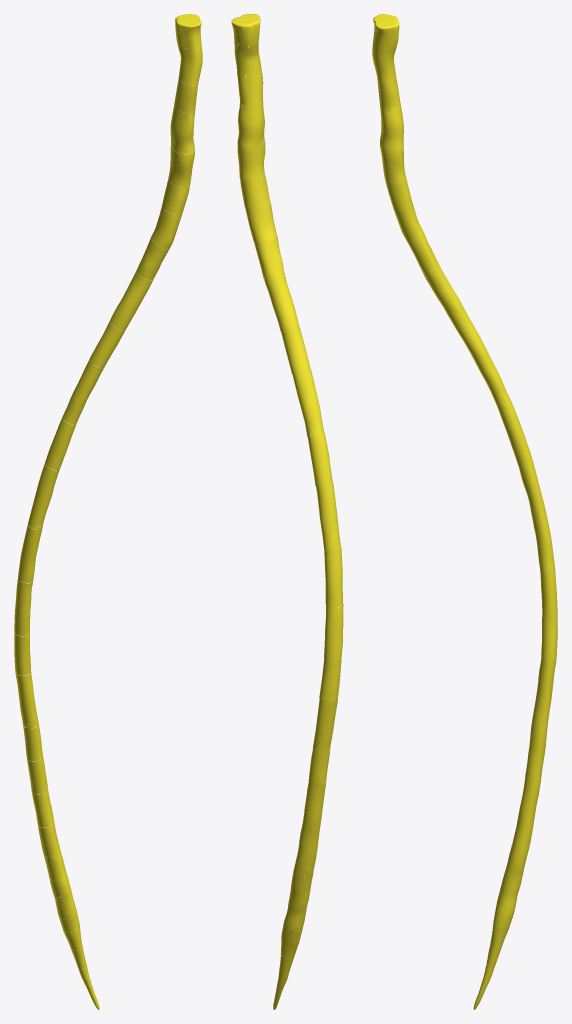
Rendered from spinal_cord.glb.
3 views of the same model, side by side, from view 1: azimuth 90°, elevation 25°; view 2: azimuth 210°, elevation 25°; view 3: azimuth 270°, elevation 25° (orthographic). The views are drawn at different scales.
Parts seen in each view (by area): view 1: VH_M_C1_segment_of_cervical_spinal_cord; view 2: VH_M_C1_segment_of_cervical_spinal_cord; view 3: VH_M_C1_segment_of_cervical_spinal_cord.
Boxes of the visible parts, box(x1,y1,x2,y2) form: VH_M_C1_segment_of_cervical_spinal_cord: box(14, 14, 202, 1009); VH_M_C1_segment_of_cervical_spinal_cord: box(231, 14, 343, 1009); VH_M_C1_segment_of_cervical_spinal_cord: box(372, 14, 557, 1009).
Bounding box in the file's own units: 0.0207 × 0.4652 × 0.0796.
